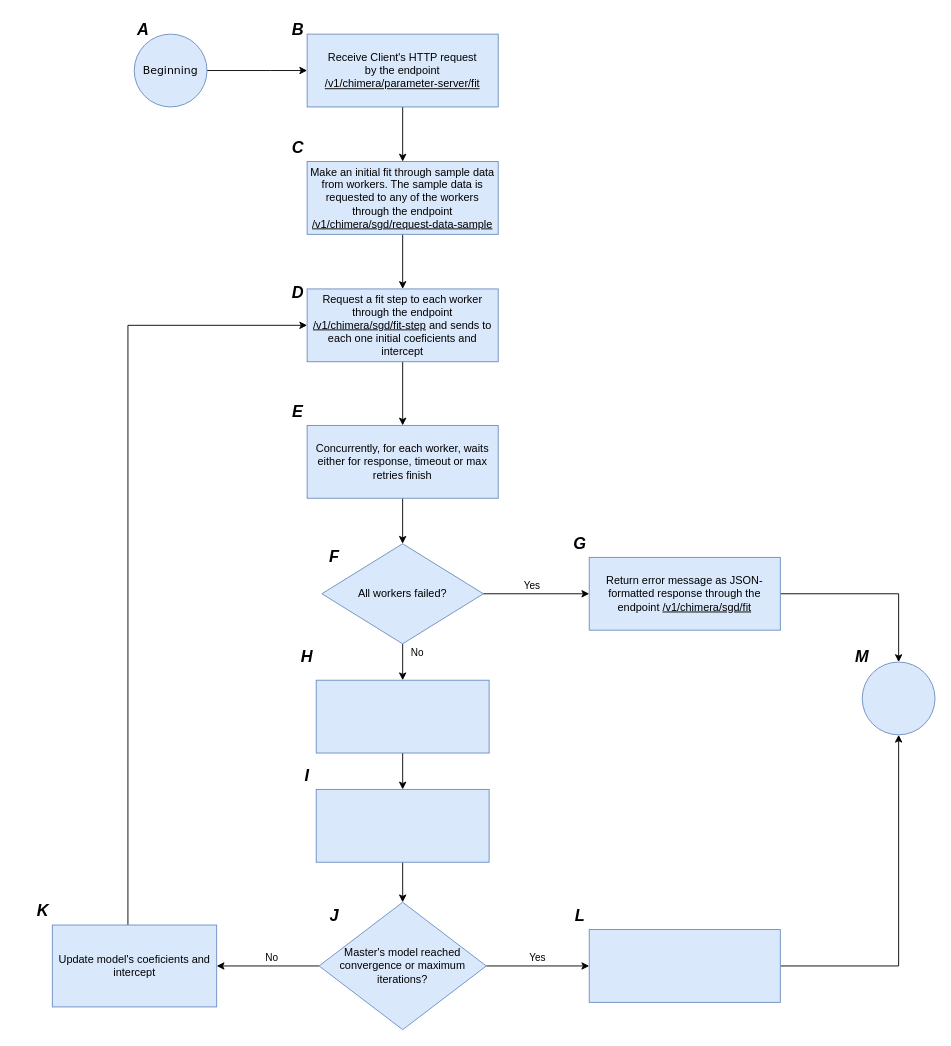
Some shapes in this 951 by 1046 pixel diagram are drawn without their labels. The shapes that lost their labels are listed below. From the top down, each one's centre as x and y in pixels, then its label:
point (402, 716): Receive results from the responsive workers (status code 200)
point (898, 698): End
point (402, 825): Aggregate gradients by calculating the arithmetic mean
point (684, 965): Return an "ok" JSON-formatted response through the endpoint /v1/chimera/sgd/fit
